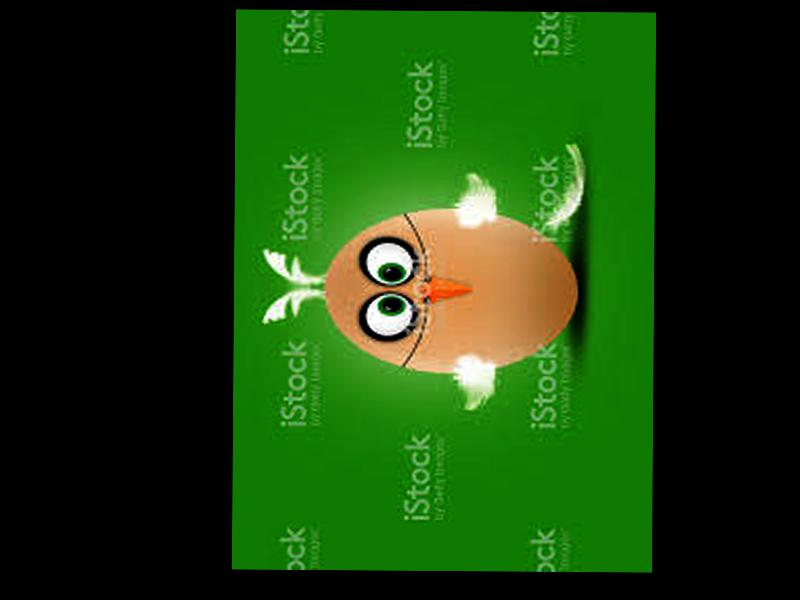Eggs: (323, 207, 581, 372)
